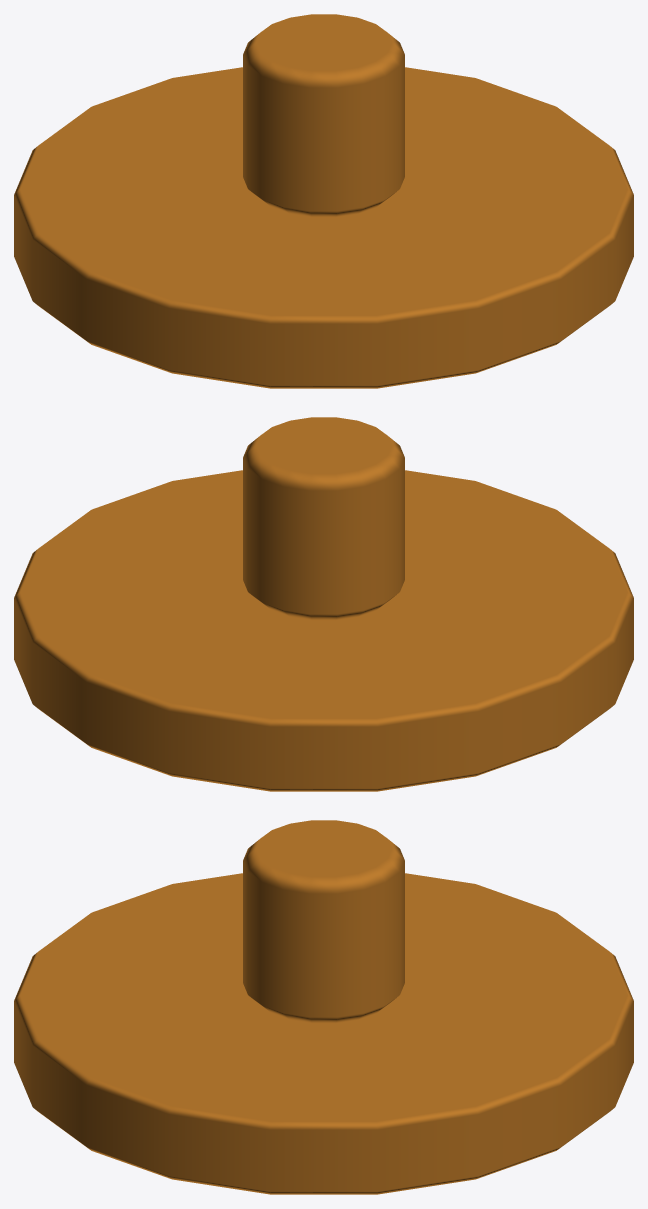
File: fx-sparks.56a55f2a.glb
3 renders of one model, top to bottom at view 1: azimuth 30°, elevation 25°; view 2: azimuth 150°, elevation 25°; view 3: azimuth 270°, elevation 25°, orthographic.
Visible parts, largest first — view 1: body; view 2: body; view 3: body.
Part boxes in pixels (x1,y1,x2,y2): body: (14,14,633,388); body: (14,417,633,791); body: (14,820,633,1194).
Size of the model in its own units: 0.453 by 0.18 by 0.46.
